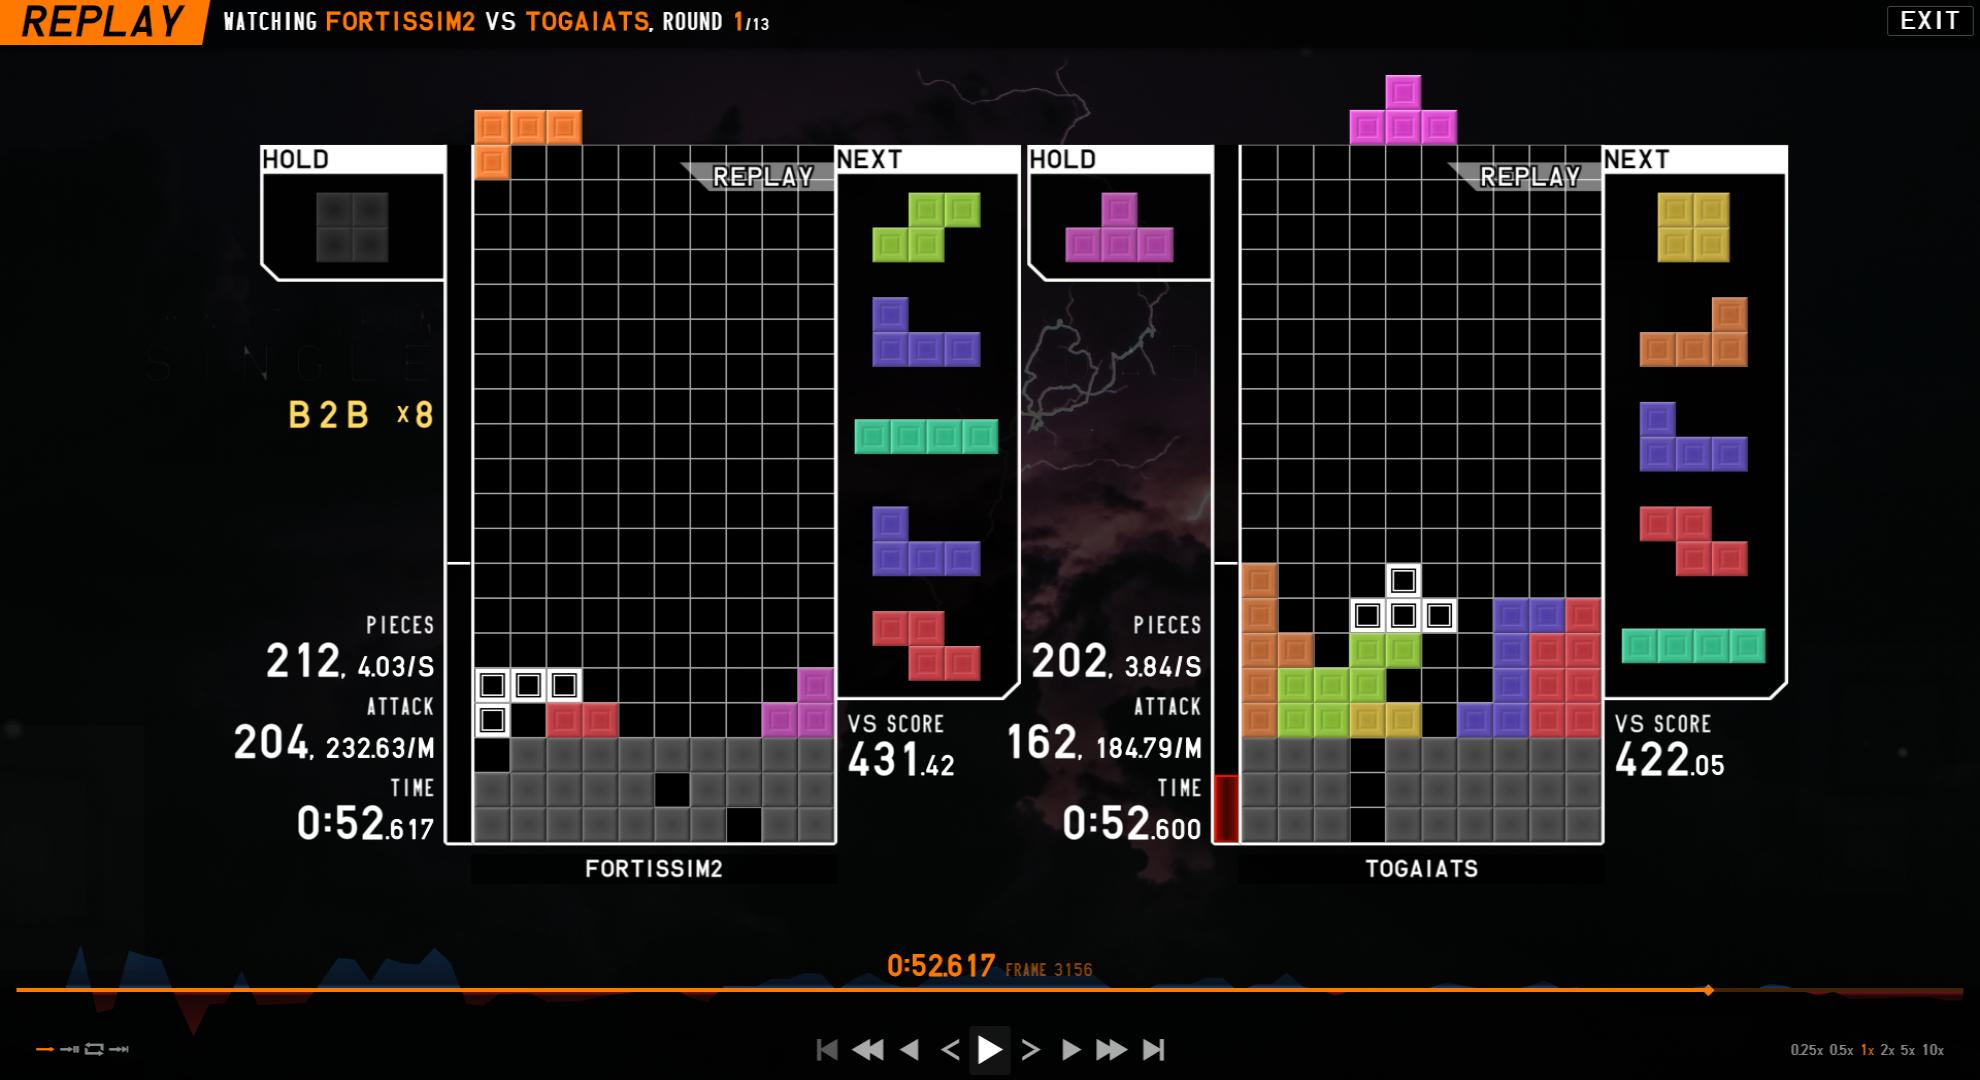tspin: (1385, 627, 1497, 739)
